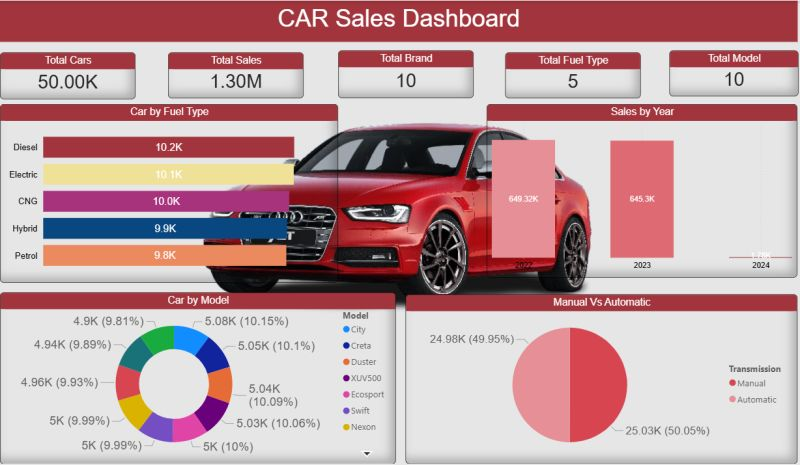

What the dashboard file says about the page in this screenshot:
{"tool":"powerbi","page":{"name":"Page 1","canvas":[1280,720],"ordinal":0},"visuals":[{"type":"card","title":"Total Cars","fields":{"Values":["Count(MASTER_CAR_DATA.Car_ID)"]},"box":[27.5,79.7,210.1,72.5],"z":0},{"type":"card","title":"Total Sales","fields":{"Values":["Sum(MASTER_CAR_DATA.Sale_Price_Lakh)"]},"box":[288.4,79.7,210.1,71],"z":1000},{"type":"card","title":"Total Brand","fields":{"Values":["Count(MASTER_CAR_DATA.Brand)"]},"box":[550.7,76.8,210.1,73.9],"z":2000},{"type":"card","title":"Total Fuel Type","fields":{"Values":["Count(MASTER_CAR_DATA.Fuel_Type)"]},"box":[810.1,79.7,210.1,71],"z":3000},{"type":"card","title":"Total Model","fields":{"Values":["Count(MASTER_CAR_DATA.Model)"]},"box":[1063.8,76.8,200,71],"z":4000},{"type":"barChart","title":"Car by Fuel Type","fields":{"Category":["MASTER_CAR_DATA.Fuel_Type"],"Y":["Count(MASTER_CAR_DATA.Car_ID)"]},"box":[27.3,160.5,523.9,277.1],"z":5000},{"type":"columnChart","title":"Sales by Year","fields":{"Y":["Sum(MASTER_CAR_DATA.Sale_Price_Lakh)"],"Category":["MASTER_CAR_DATA.Sale_Date.Variation.Date Hierarchy.Year"]},"box":[781.3,160.5,481.5,269.5],"z":6000},{"type":"donutChart","title":"Car by Model","fields":{"Category":["MASTER_CAR_DATA.Model"],"Y":["Count(MASTER_CAR_DATA.Car_ID)"]},"box":[27.3,452.7,613.3,266.5],"z":7000},{"type":"pieChart","title":"Manual Vs Automatic","fields":{"Category":["MASTER_CAR_DATA.Transmission"],"Y":["Count(MASTER_CAR_DATA.Car_ID)"]},"box":[655.7,455.8,607.2,263.5],"z":8000},{"type":"textbox","box":[27.5,0,1236.2,63.8],"z":9000}]}

Visuals, with their boxes in screenshot pixels (x1, y1, x2, y2):
"Total Cars" card: pyautogui.locateOnScreen(3, 51, 137, 97)
"Total Sales" card: pyautogui.locateOnScreen(170, 51, 304, 96)
"Total Brand" card: pyautogui.locateOnScreen(337, 49, 472, 96)
"Total Fuel Type" card: pyautogui.locateOnScreen(503, 51, 637, 96)
"Total Model" card: pyautogui.locateOnScreen(665, 49, 793, 94)
"Car by Fuel Type" barChart: pyautogui.locateOnScreen(3, 103, 338, 280)
"Sales by Year" columnChart: pyautogui.locateOnScreen(485, 103, 792, 275)
"Car by Model" donutChart: pyautogui.locateOnScreen(3, 289, 395, 460)
"Manual Vs Automatic" pieChart: pyautogui.locateOnScreen(404, 291, 792, 460)
textbox: pyautogui.locateOnScreen(3, 0, 793, 41)
